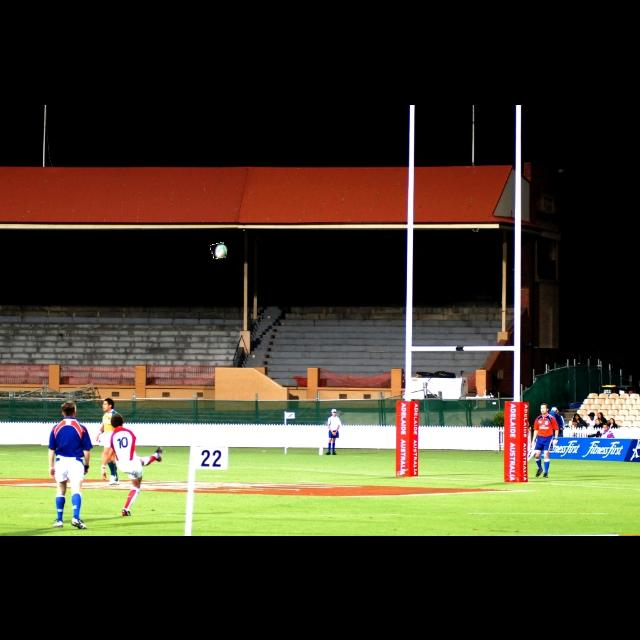Football: (211, 244, 227, 258)
